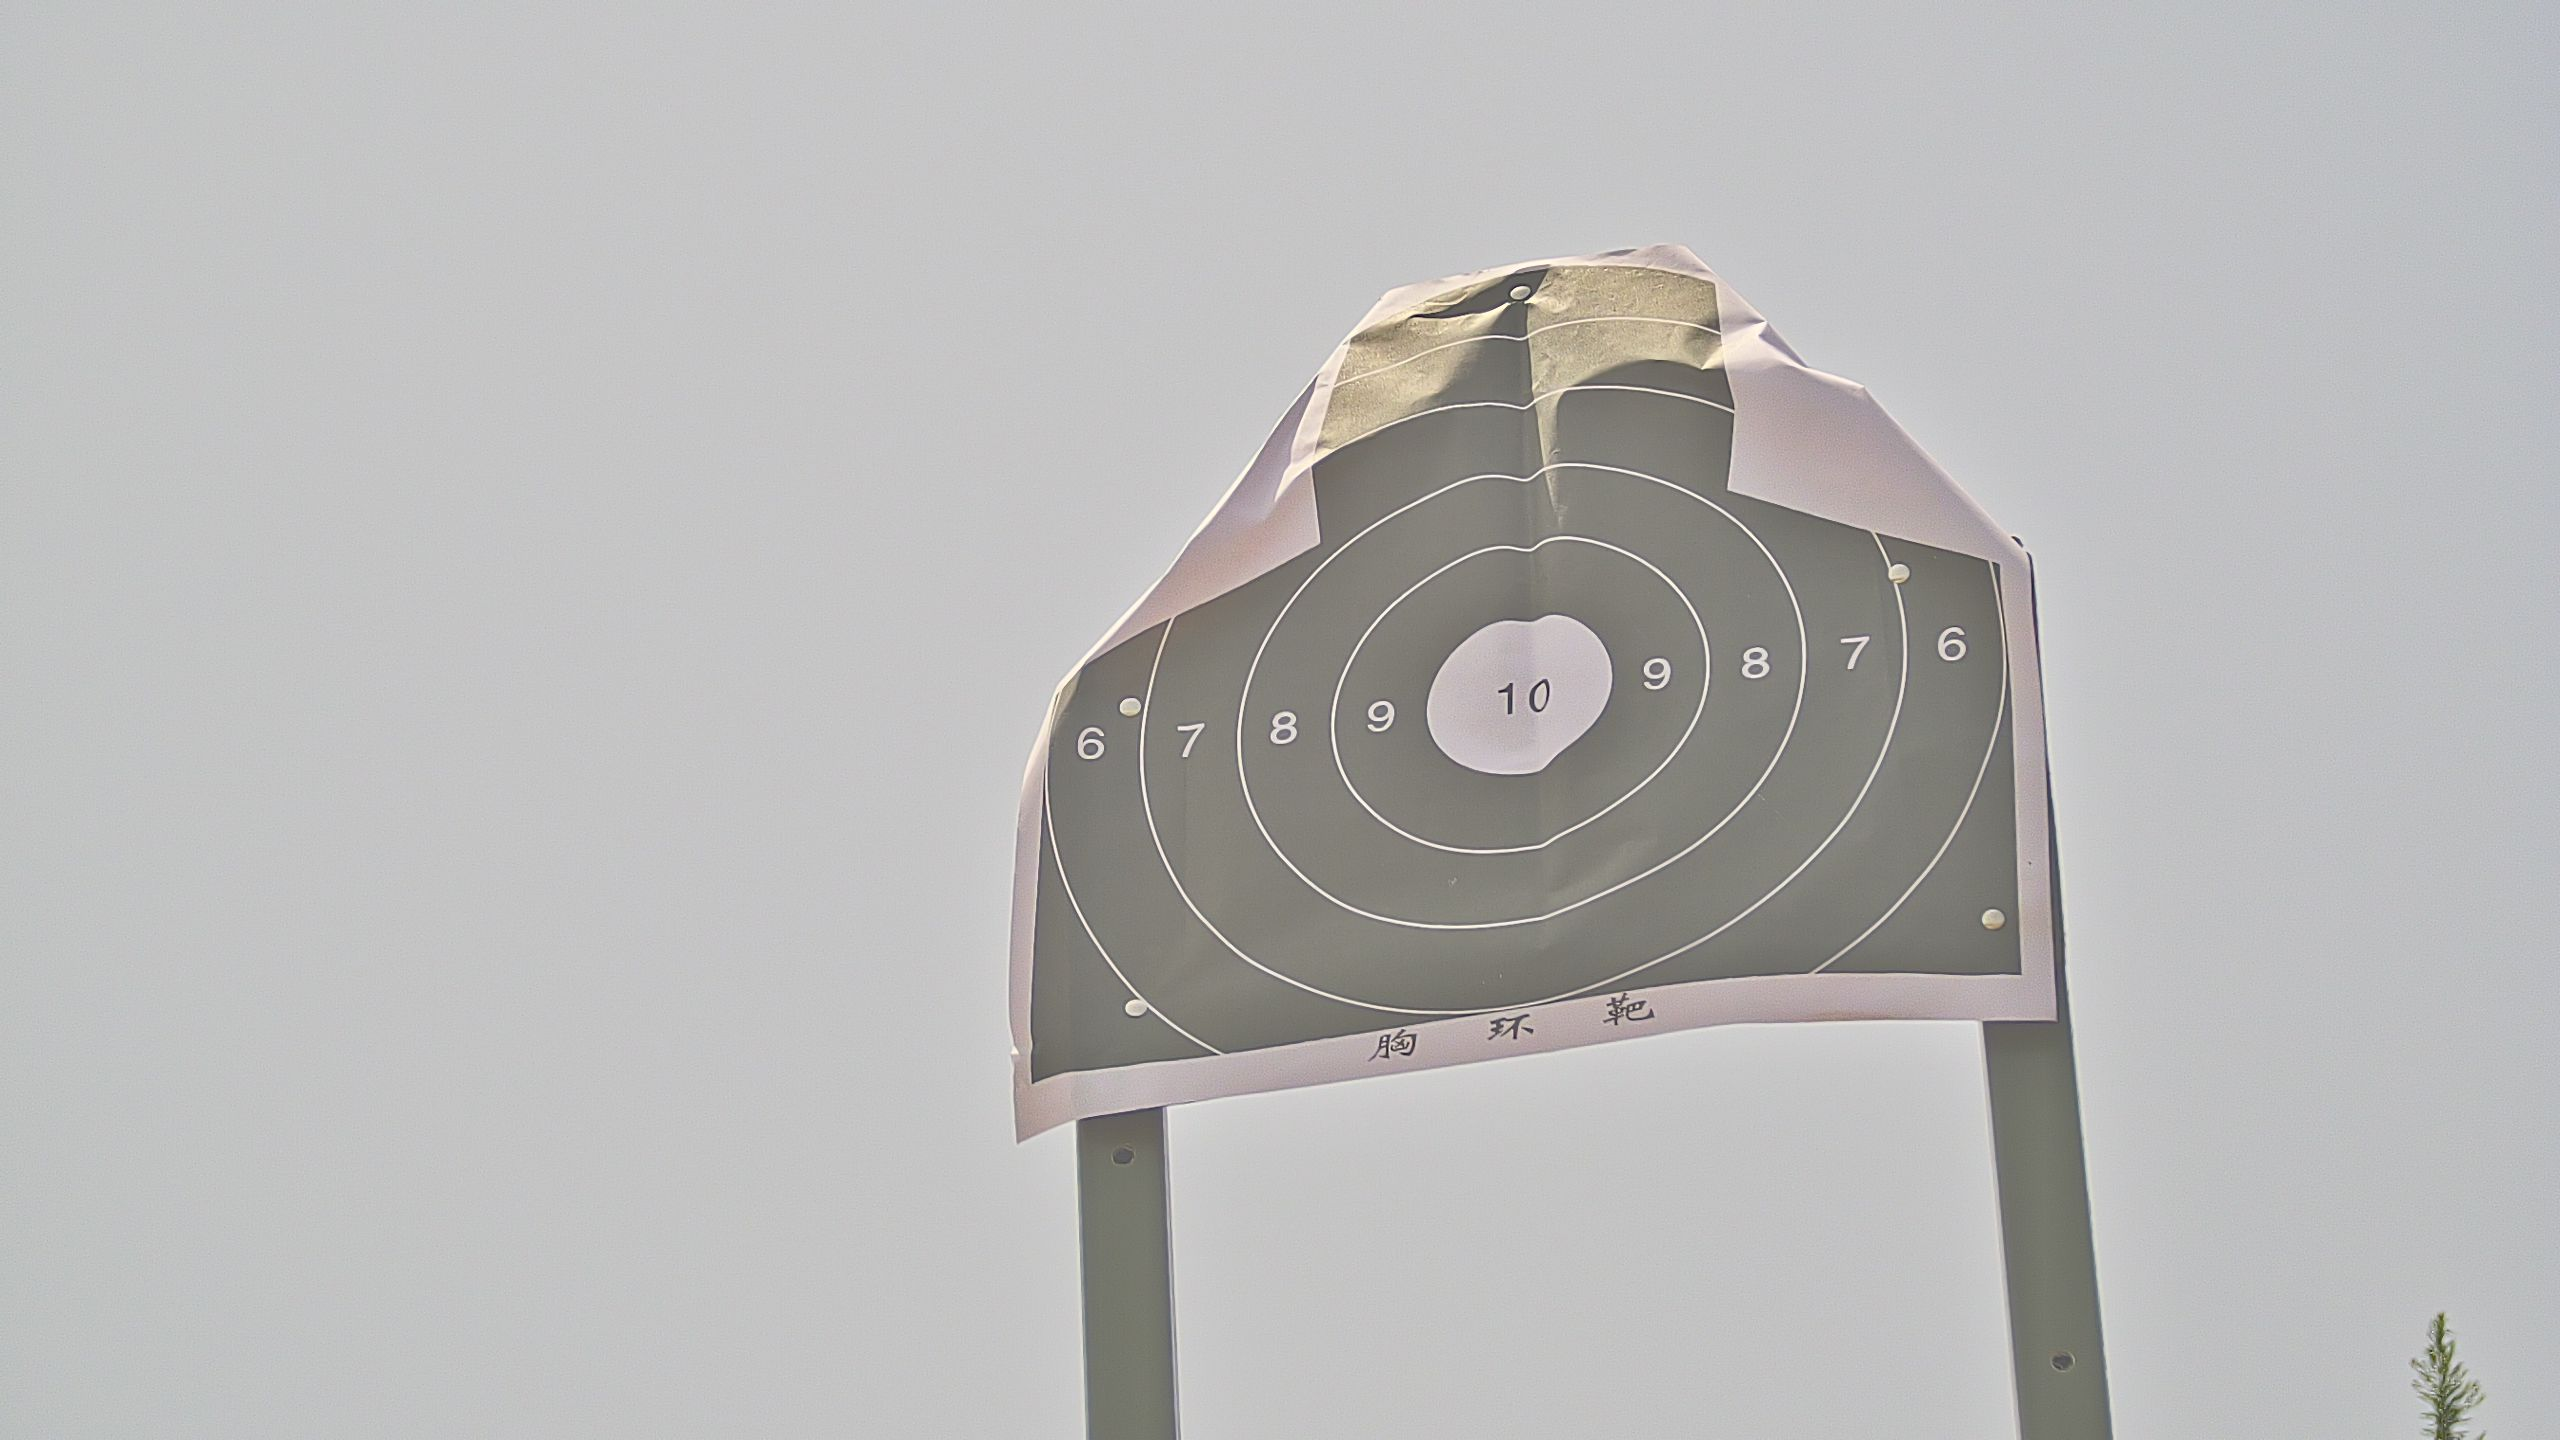kernel: (1516, 696, 1524, 700)
target: (1032, 257, 2025, 1094)
ten: (1422, 615, 1616, 775)
